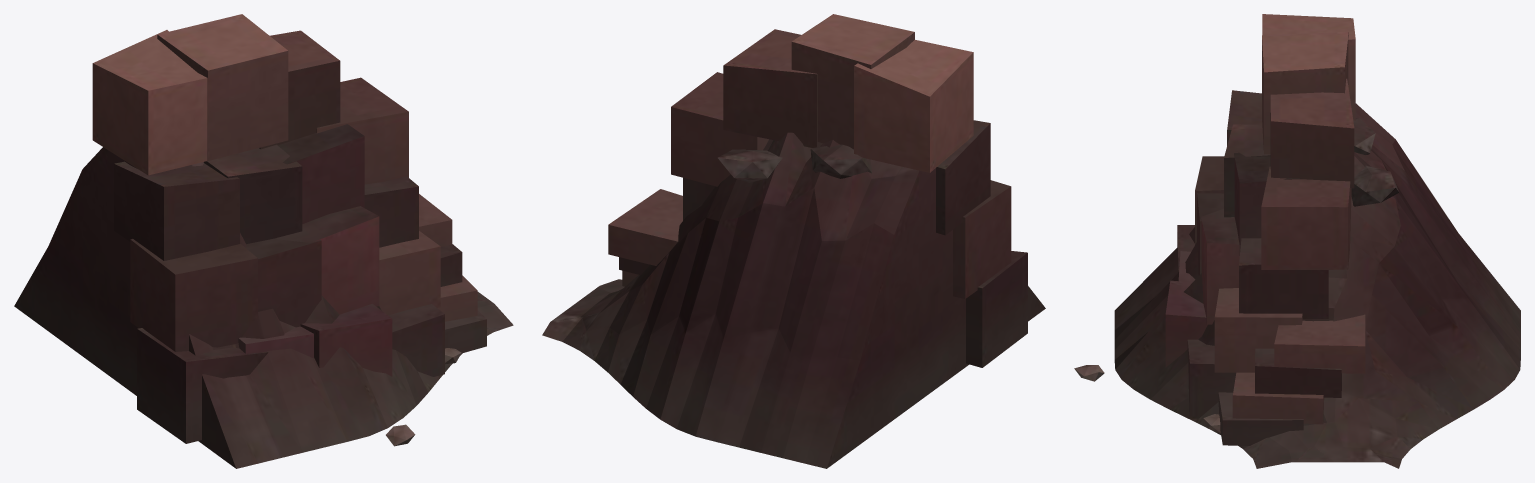
File: cliff-fulgora-exit.glb
The picture shows the model from 3 angles, left to right: view 1: azimuth 30°, elevation 25°; view 2: azimuth 150°, elevation 25°; view 3: azimuth 270°, elevation 25°; orthographic projection. The views are drawn at different scales.
Parts seen in each view (by area): view 1: cliff-fulgora-exit; view 2: cliff-fulgora-exit; view 3: cliff-fulgora-exit.
Boxes of the visible parts, left/top/right/bottom form: cliff-fulgora-exit: left=14, top=14, right=513, bottom=468; cliff-fulgora-exit: left=542, top=14, right=1045, bottom=468; cliff-fulgora-exit: left=1074, top=14, right=1520, bottom=468.
Size of the model in its own units: 3.15 by 2.67 by 3.57.
Materials: 2 (2 with a texture image).
